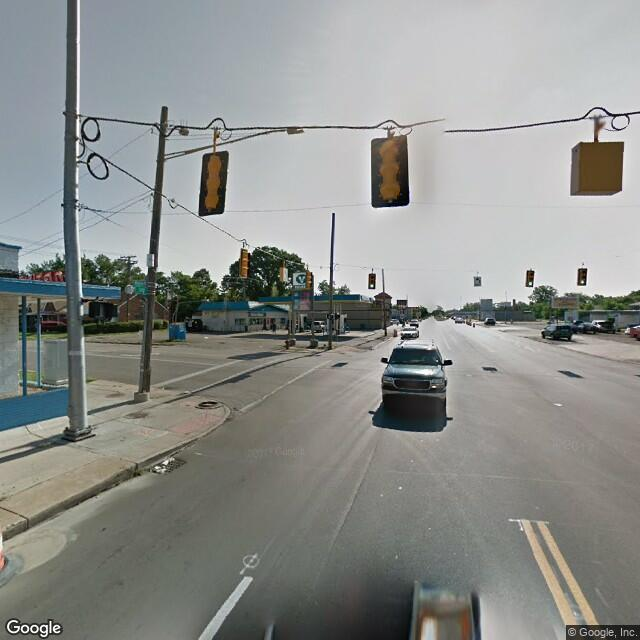litter: (148, 452, 181, 473)
